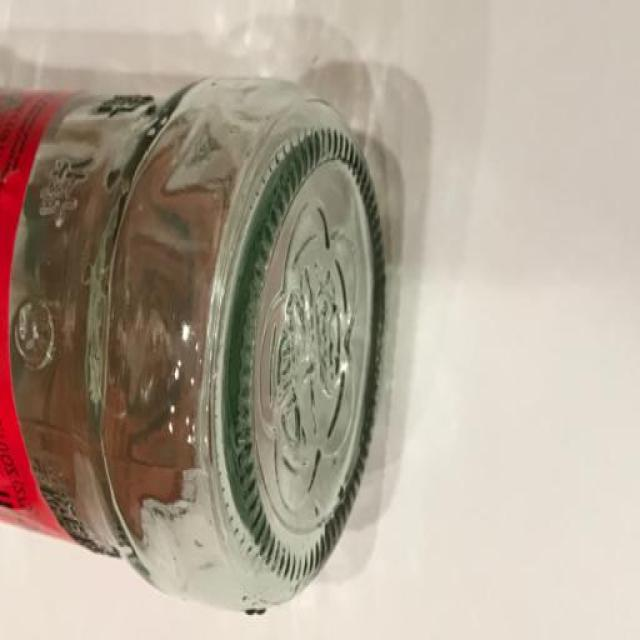glass: (0, 75, 385, 615)
